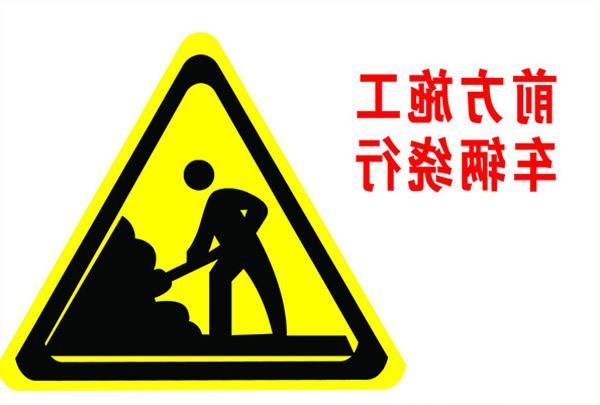sign: (1, 17, 558, 394)
